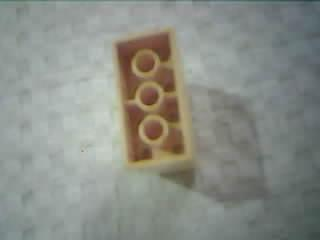lego: (107, 27, 198, 175)
